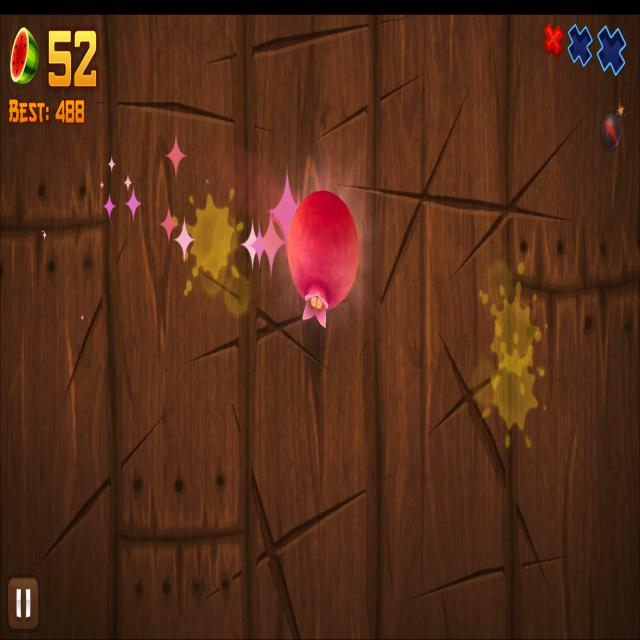fruit: (287, 189, 359, 328)
